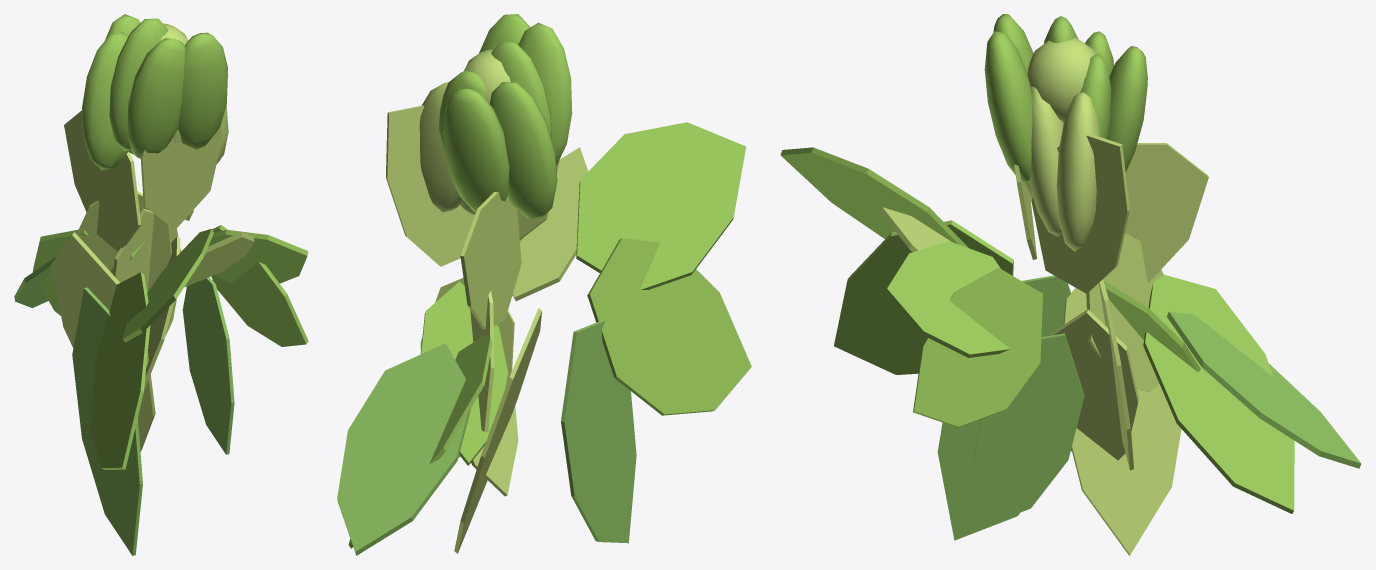
File: lettuce-harvest.glb
3 views of the same model, side by side, from view 1: azimuth 30°, elevation 25°; view 2: azimuth 150°, elevation 25°; view 3: azimuth 270°, elevation 25° (orthographic). The views are drawn at different scales.
Parts seen in each view (by area): view 1: lettuce_harvest_lettuce, lettuce_harvest_lettuceCore, lettuce_harvest_leafLight; view 2: lettuce_harvest_lettuce, lettuce_harvest_lettuceCore, lettuce_harvest_leafLight; view 3: lettuce_harvest_lettuce, lettuce_harvest_lettuceCore, lettuce_harvest_leafLight.
Boxes of the visible parts, x1,y1,x2,y2 form: lettuce_harvest_lettuce: (32,14,308,469); lettuce_harvest_lettuceCore: (51,23,254,451); lettuce_harvest_leafLight: (14,256,234,555); lettuce_harvest_lettuce: (348,14,751,548); lettuce_harvest_lettuceCore: (386,49,588,553); lettuce_harvest_leafLight: (337,321,636,555); lettuce_harvest_lettuce: (780,14,1294,513); lettuce_harvest_lettuceCore: (880,37,1208,555); lettuce_harvest_leafLight: (937,275,1361,540).
Bounding box in the file's own units: 0.311 × 0.6546 × 0.62.
